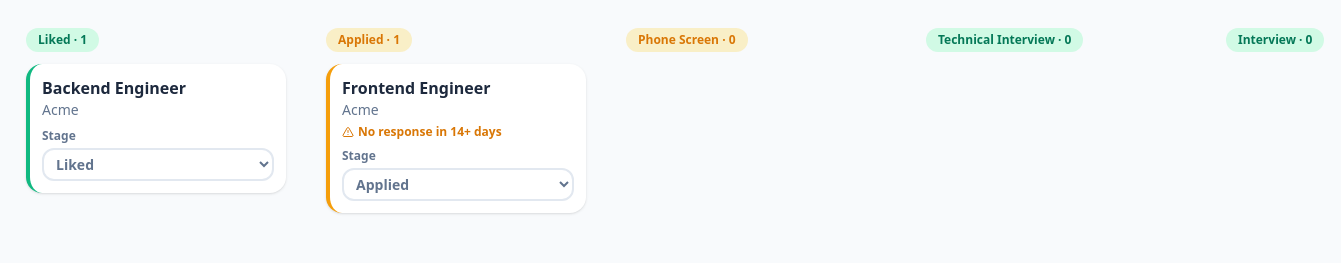
Scenario: KanbanBoard › shows an error and reverts optimistic update when the stage change fails
This screenshot has width=1341, height=263.
Select "Applied" in the dropdown labelled "Stage" below "Liked" at (158, 164), box [42,148,274,181]
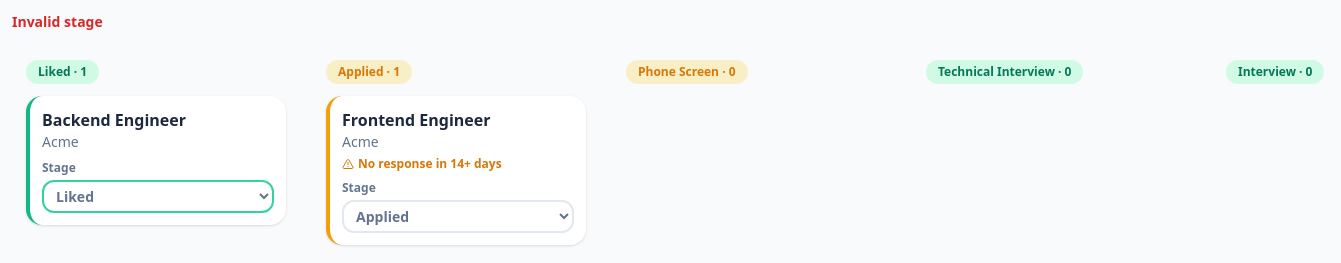
Expected: the message reads "Invalid stage", [12,12,103,31]
